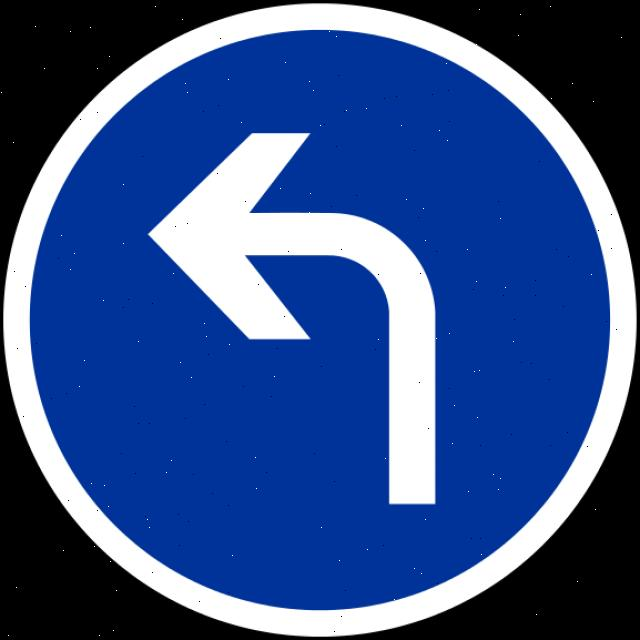left: (138, 120, 469, 536)
